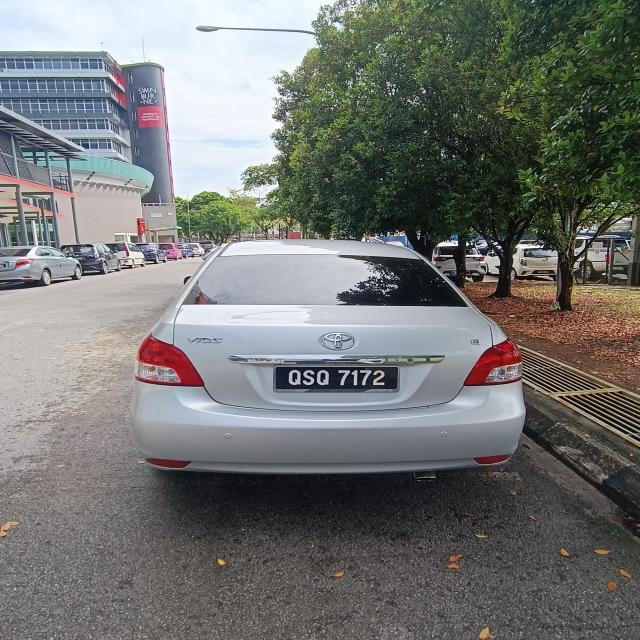ToyotaVios: (130, 237, 528, 481)
